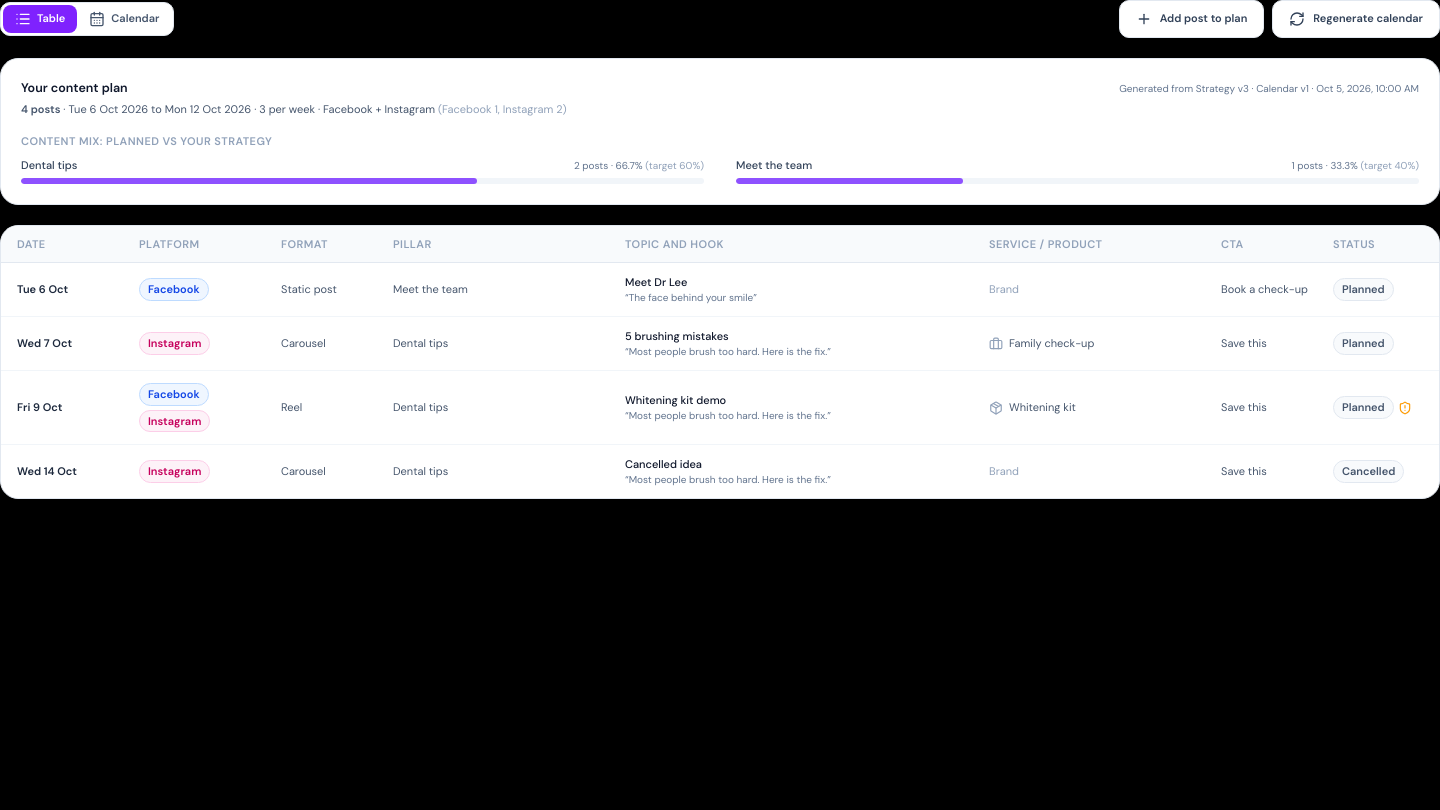
Test: Content plan — a ready calendar › a grid chip opens the same modal
Click the button "Calendar" at (124, 19), box x1=77 y1=5 x2=171 y2=33
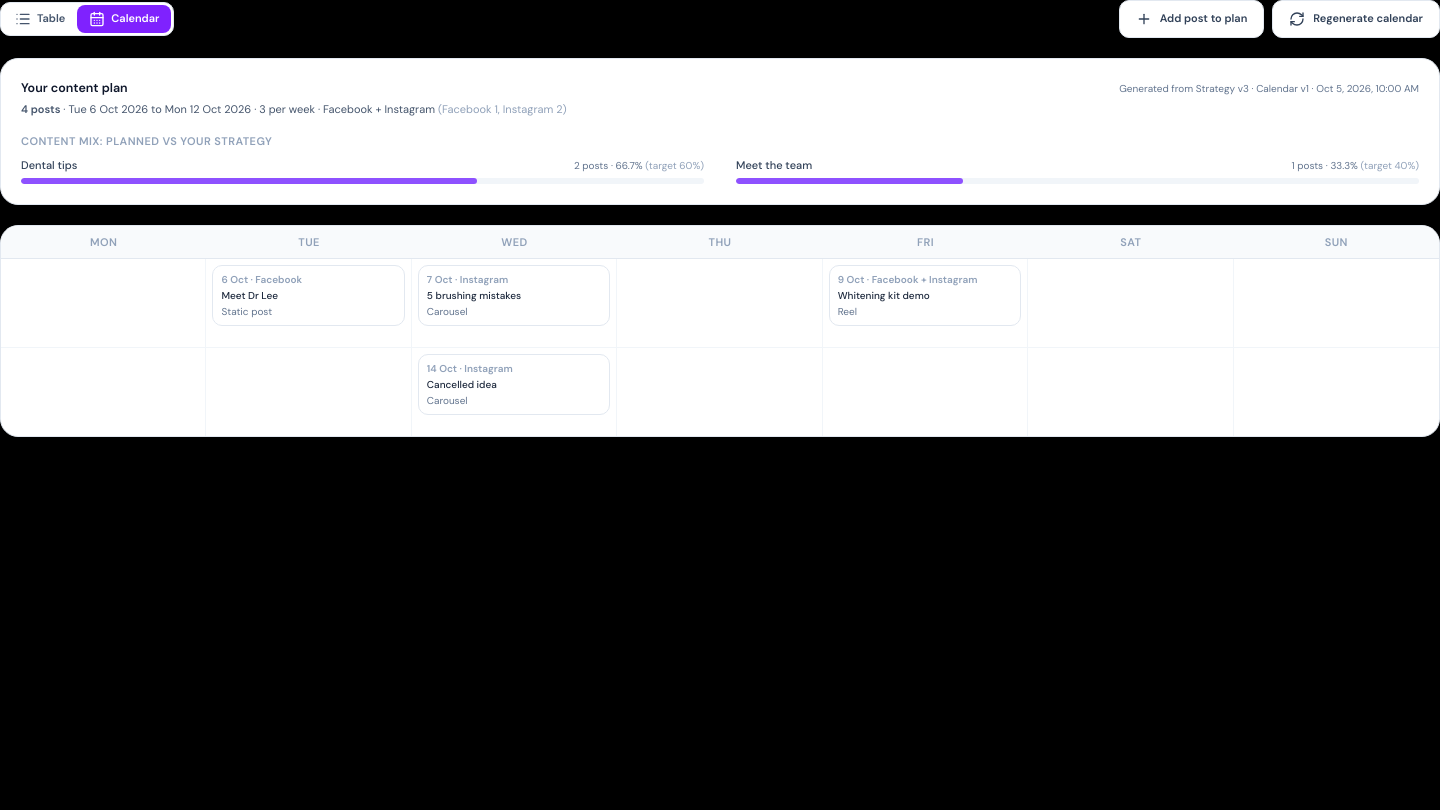
Click the button with test id "plan-chip-i2" at (514, 296), box x1=418 y1=265 x2=610 y2=326
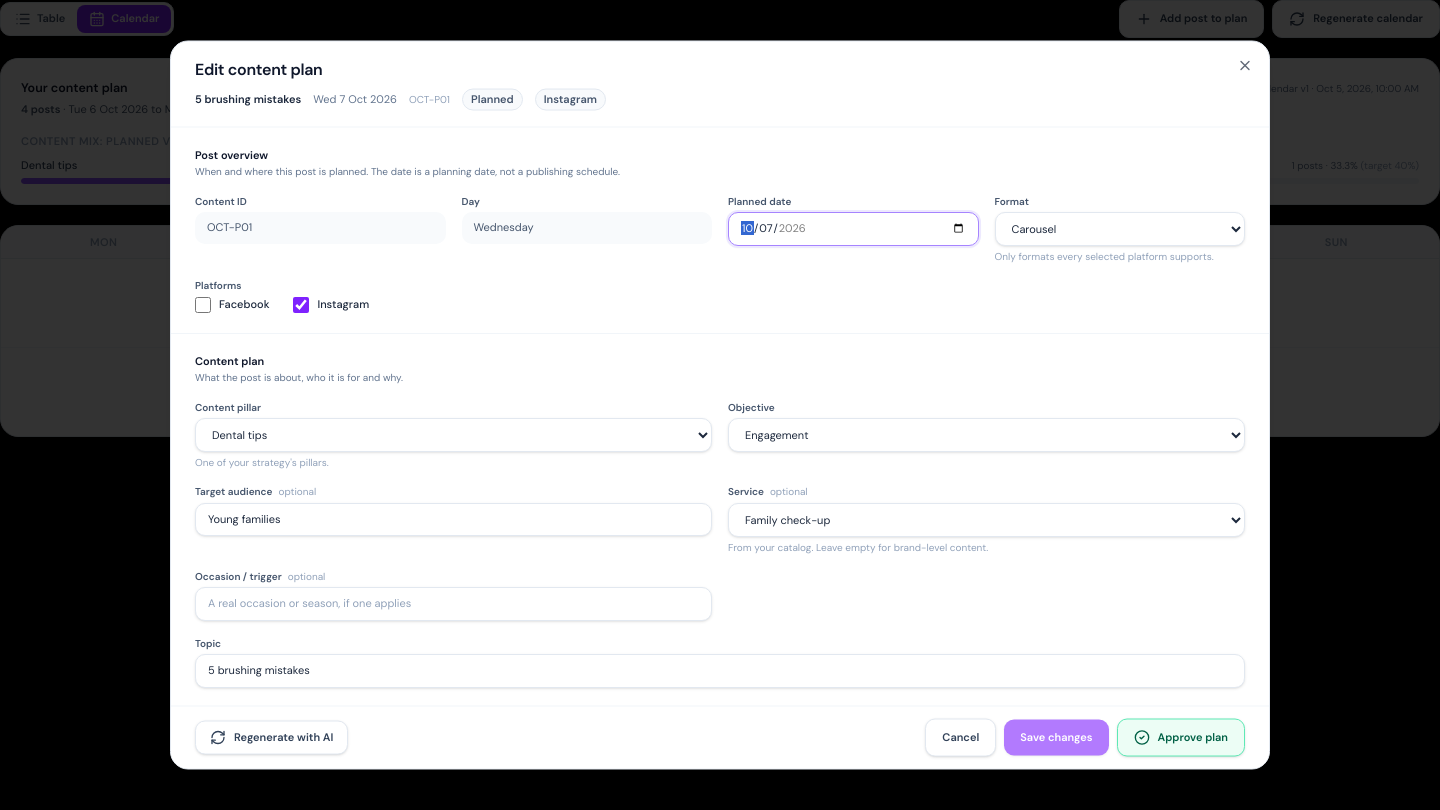
Check: the field labelled "Topic" holds "5 brushing mistakes", box x1=195 y1=654 x2=1245 y2=688
Check: the dialog with test id "item-modal" shows "5 brushing mistakes", box x1=195 y1=91 x2=301 y2=105
